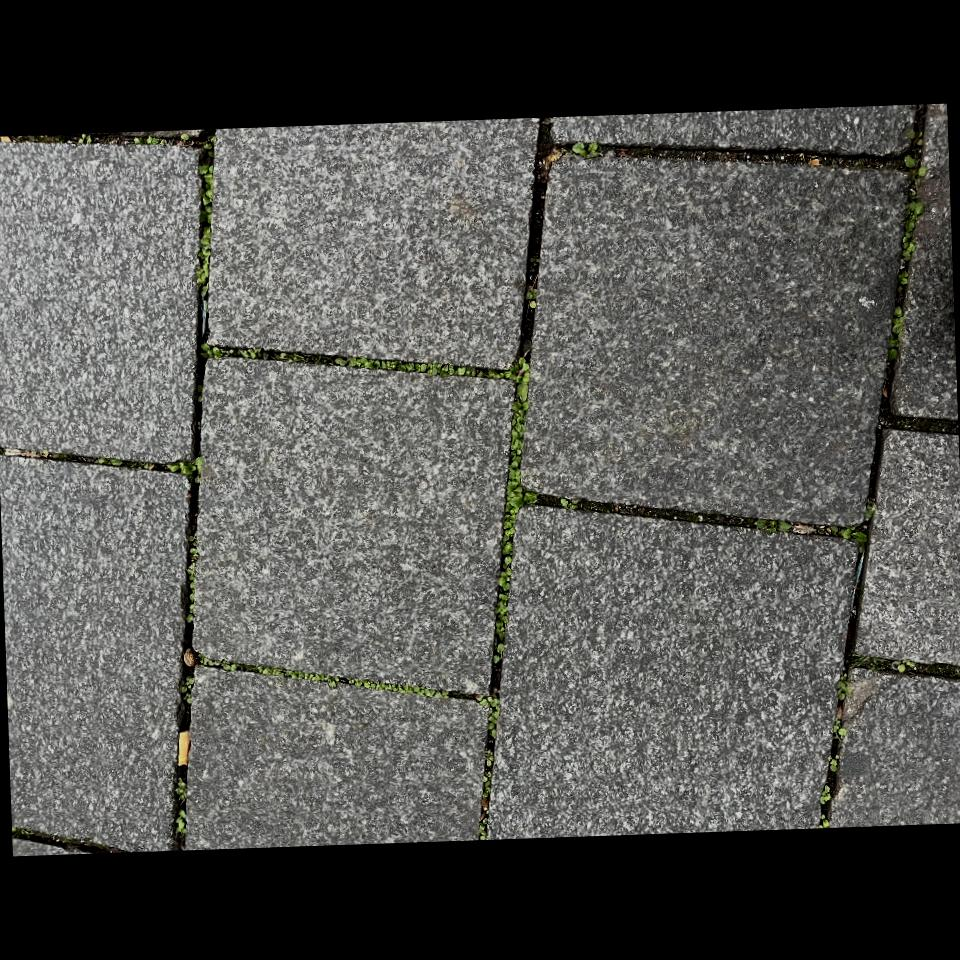weed: (412, 120, 483, 796), (35, 132, 141, 312), (496, 261, 761, 306), (92, 418, 386, 458), (444, 581, 760, 617), (756, 109, 789, 315), (1, 525, 83, 602), (32, 757, 69, 856), (751, 504, 770, 684), (747, 685, 763, 763), (746, 770, 760, 813), (0, 276, 27, 295), (52, 649, 65, 682), (59, 604, 71, 626), (43, 728, 55, 749), (51, 684, 62, 698)
